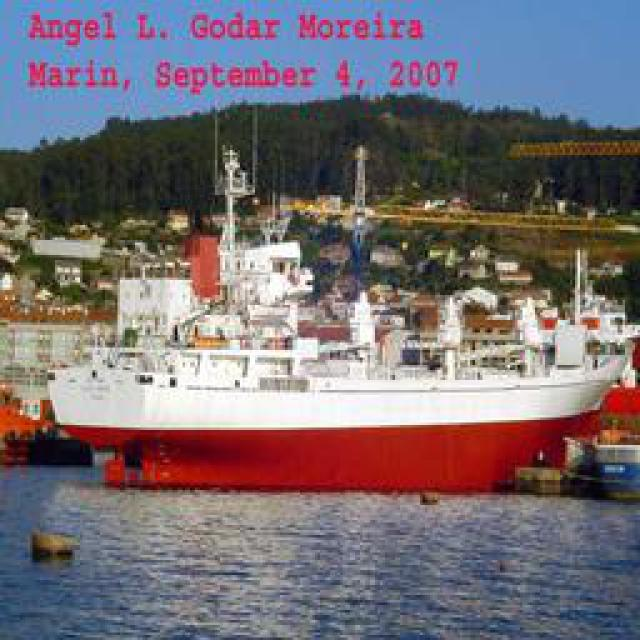Ship: (40, 215, 635, 473)
